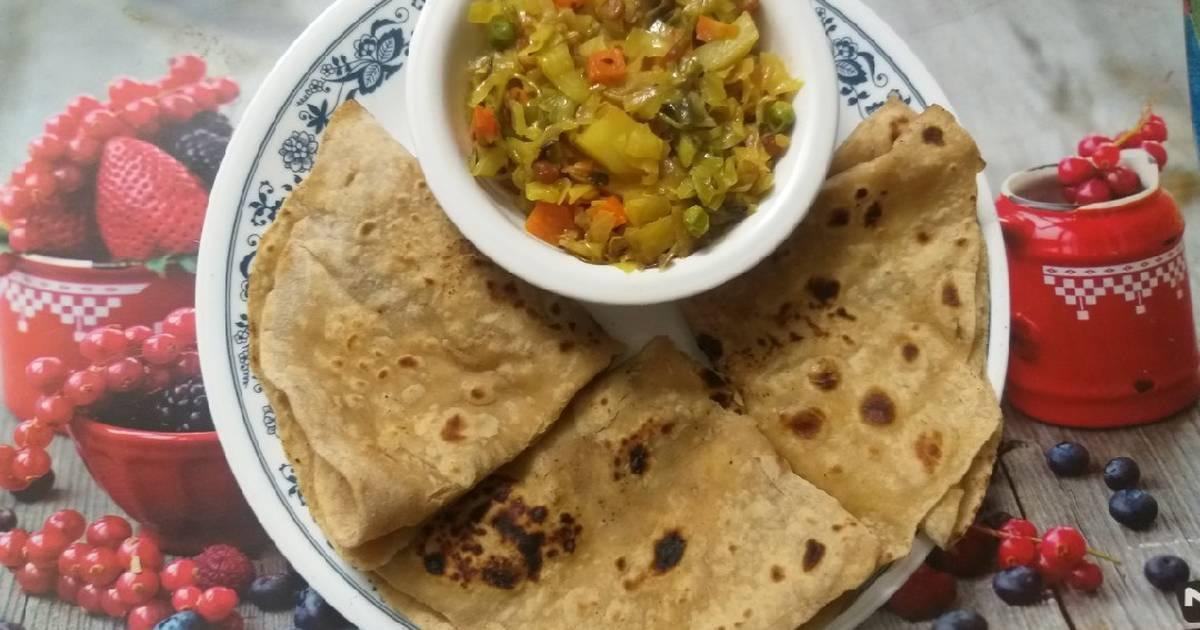roti: (245, 97, 625, 551), (675, 91, 1007, 566), (363, 339, 880, 630)
